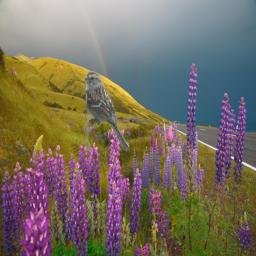Sparrow: (85, 71, 129, 152)
